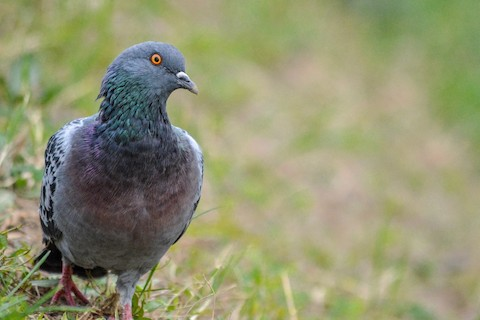pigeon: (28, 36, 210, 310)
